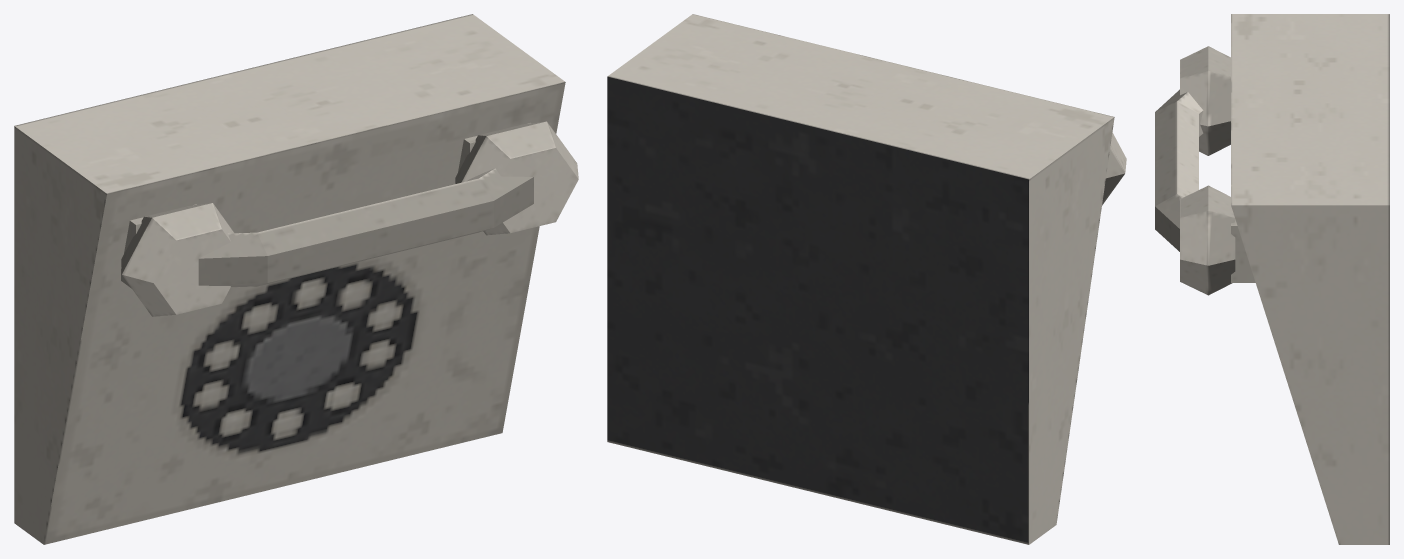
File: pz_phone_rotary_white.obj
3 renders of one model, left to right at view 1: azimuth 30°, elevation 25°; view 2: azimuth 150°, elevation 25°; view 3: azimuth 270°, elevation 25°, orthographic. The views are drawn at different scales.
Parts seen in each view (by area): view 1: base, nearly_straight_receiver_grip, receiver_cup_0, receiver_cup_1; view 2: base, receiver_cup_0; view 3: base, nearly_straight_receiver_grip, receiver_cup_1, receiver_cup_0, cradle_1.
Boxes of the visible parts, left/top/right/bottom form: base: left=14, top=14, right=565, bottom=544; nearly_straight_receiver_grip: left=198, top=168, right=533, bottom=287; receiver_cup_0: left=121, top=203, right=234, bottom=316; receiver_cup_1: left=455, top=121, right=578, bottom=235; base: left=607, top=14, right=1114, bottom=544; receiver_cup_0: left=1102, top=132, right=1126, bottom=205; base: left=1231, top=14, right=1389, bottom=544; nearly_straight_receiver_grip: left=1155, top=89, right=1203, bottom=251; receiver_cup_1: left=1180, top=185, right=1235, bottom=295; receiver_cup_0: left=1180, top=46, right=1230, bottom=155; cradle_1: left=1231, top=219, right=1255, bottom=282.
Bounding box in the file's own units: 0.302 × 0.25 × 0.1567.
1 material, 1 textured.
